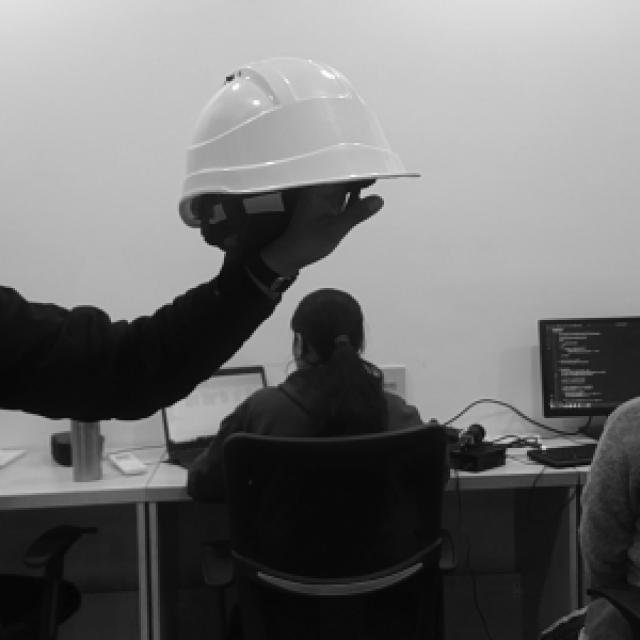safety_helmet: (178, 60, 421, 224)
